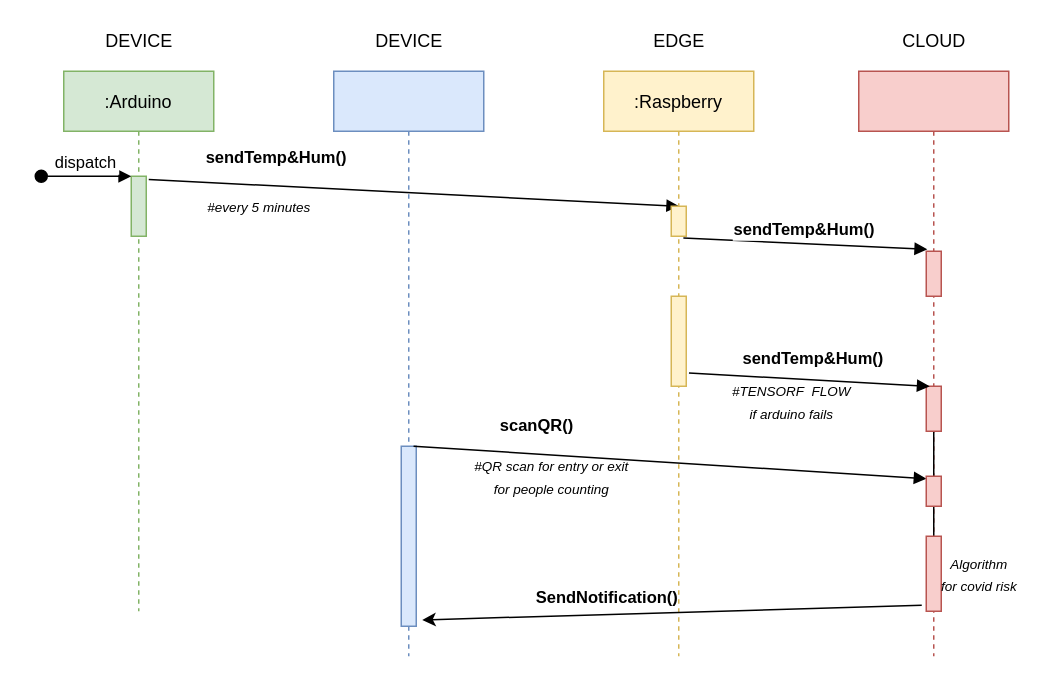
This 1058x683 diagram has some shape labels left out. Here are the shapes that lost their labels. From the top down, the box of each, then its label:
(332, 70, 484, 656): :Smartphone
(857, 70, 1009, 656): :Cloud
